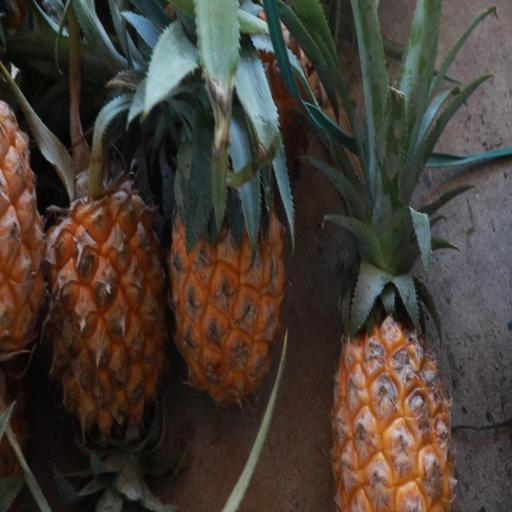Pineapple - v8 v1: (330, 138, 463, 511), (43, 100, 174, 444), (164, 92, 290, 416)
